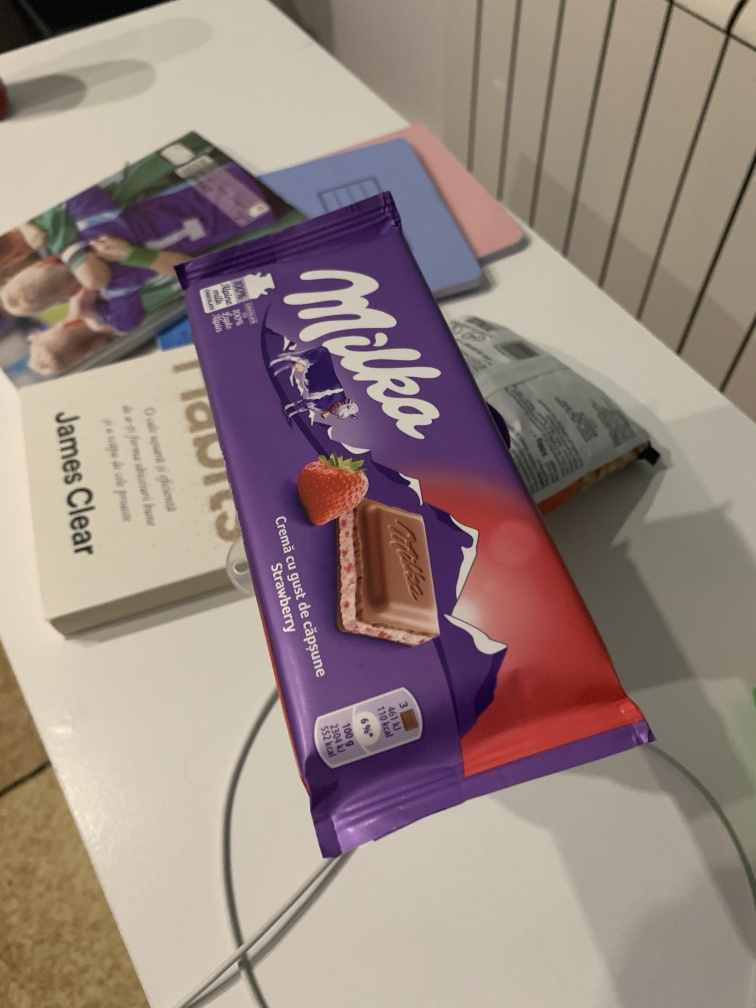milka: (168, 188, 660, 874)
